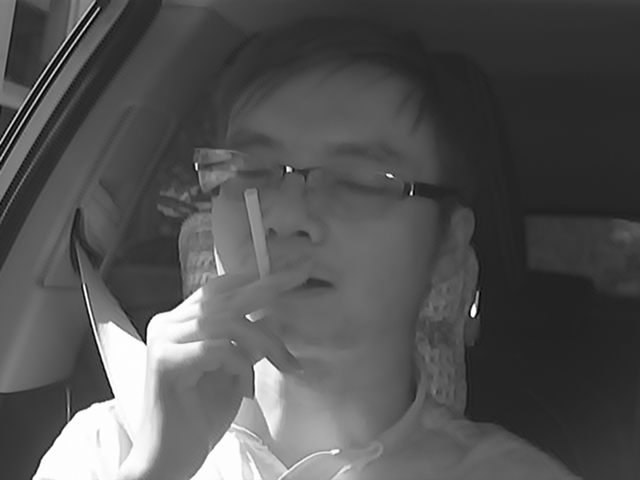hand: (141, 257, 306, 456)
